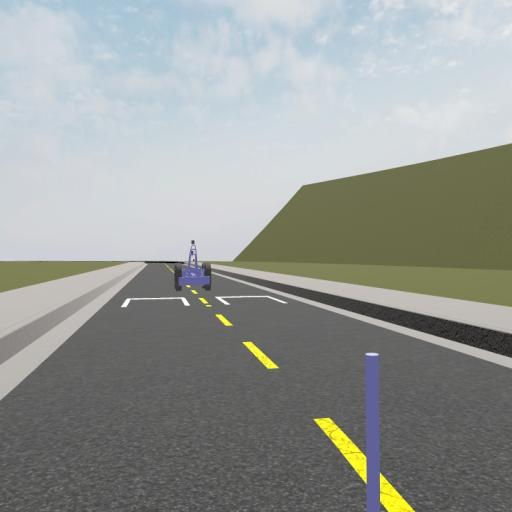ERP-42: (173, 242, 212, 290)
